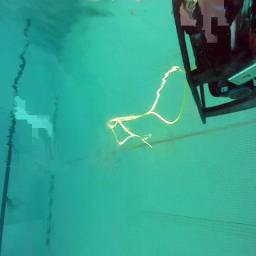Full: (171, 0, 256, 126)
